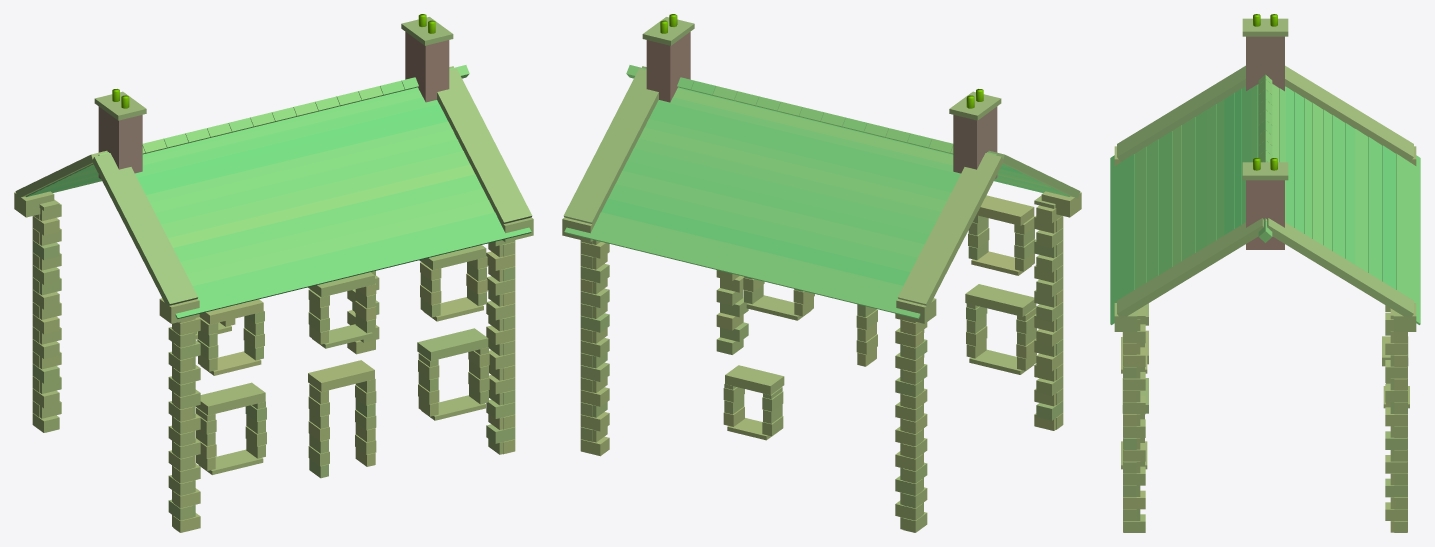
Rendered from SM_Bld_072_Stone.glb.
3 views of the same model, side by side, from view 1: azimuth 30°, elevation 25°; view 2: azimuth 150°, elevation 25°; view 3: azimuth 270°, elevation 25° (orthographic). The views are drawn at different scales.
Parts seen in each view (by area): view 1: SM_Bld_072_Stone; view 2: SM_Bld_072_Stone; view 3: SM_Bld_072_Stone.
Boxes of the visible parts, x1,y1,x2,y2 form: SM_Bld_072_Stone: (14,14,533,532); SM_Bld_072_Stone: (562,14,1081,532); SM_Bld_072_Stone: (1110,14,1420,532).
Size of the model in its own units: 9.5 by 9.28 by 7.11.
